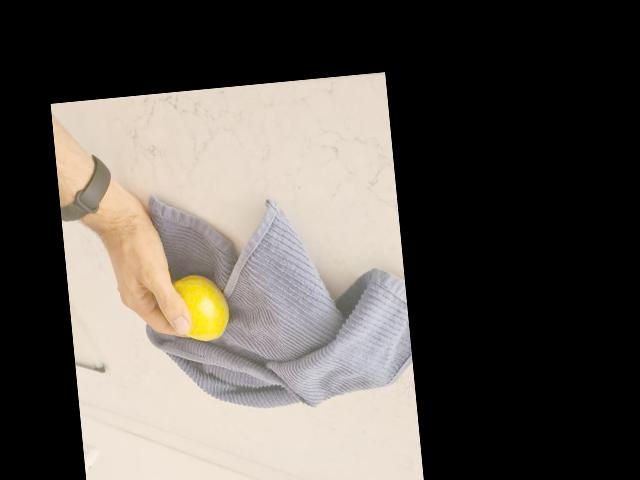lemon: (159, 269, 231, 344)
